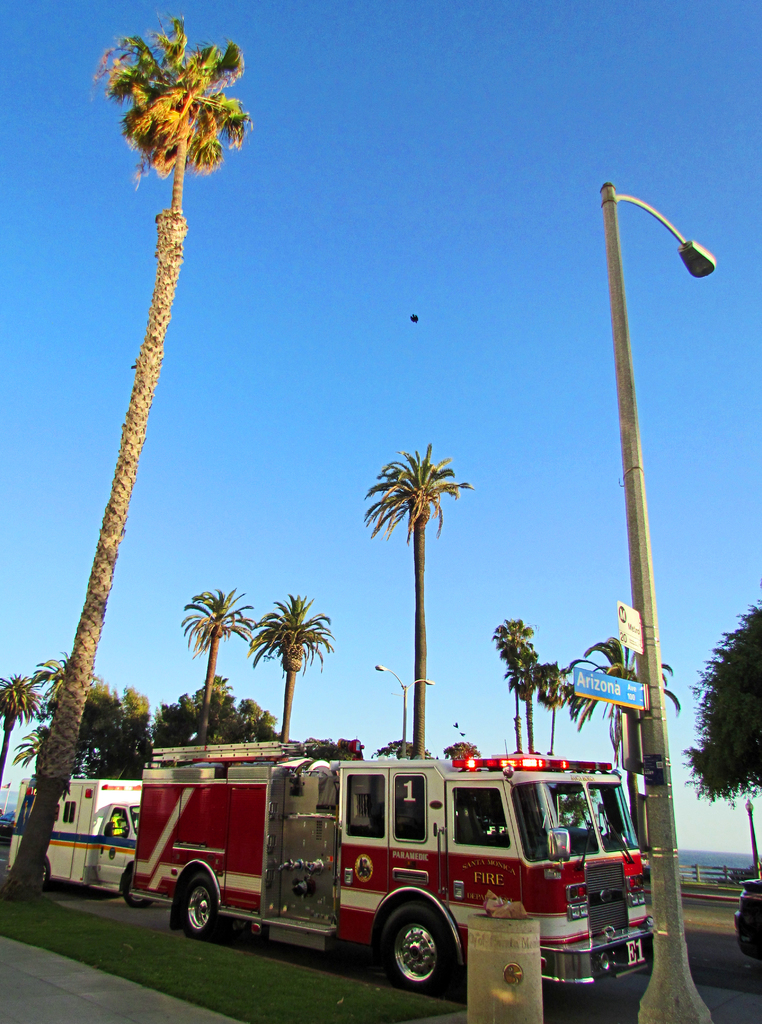truck: (124, 714, 658, 999), (12, 750, 158, 907)
